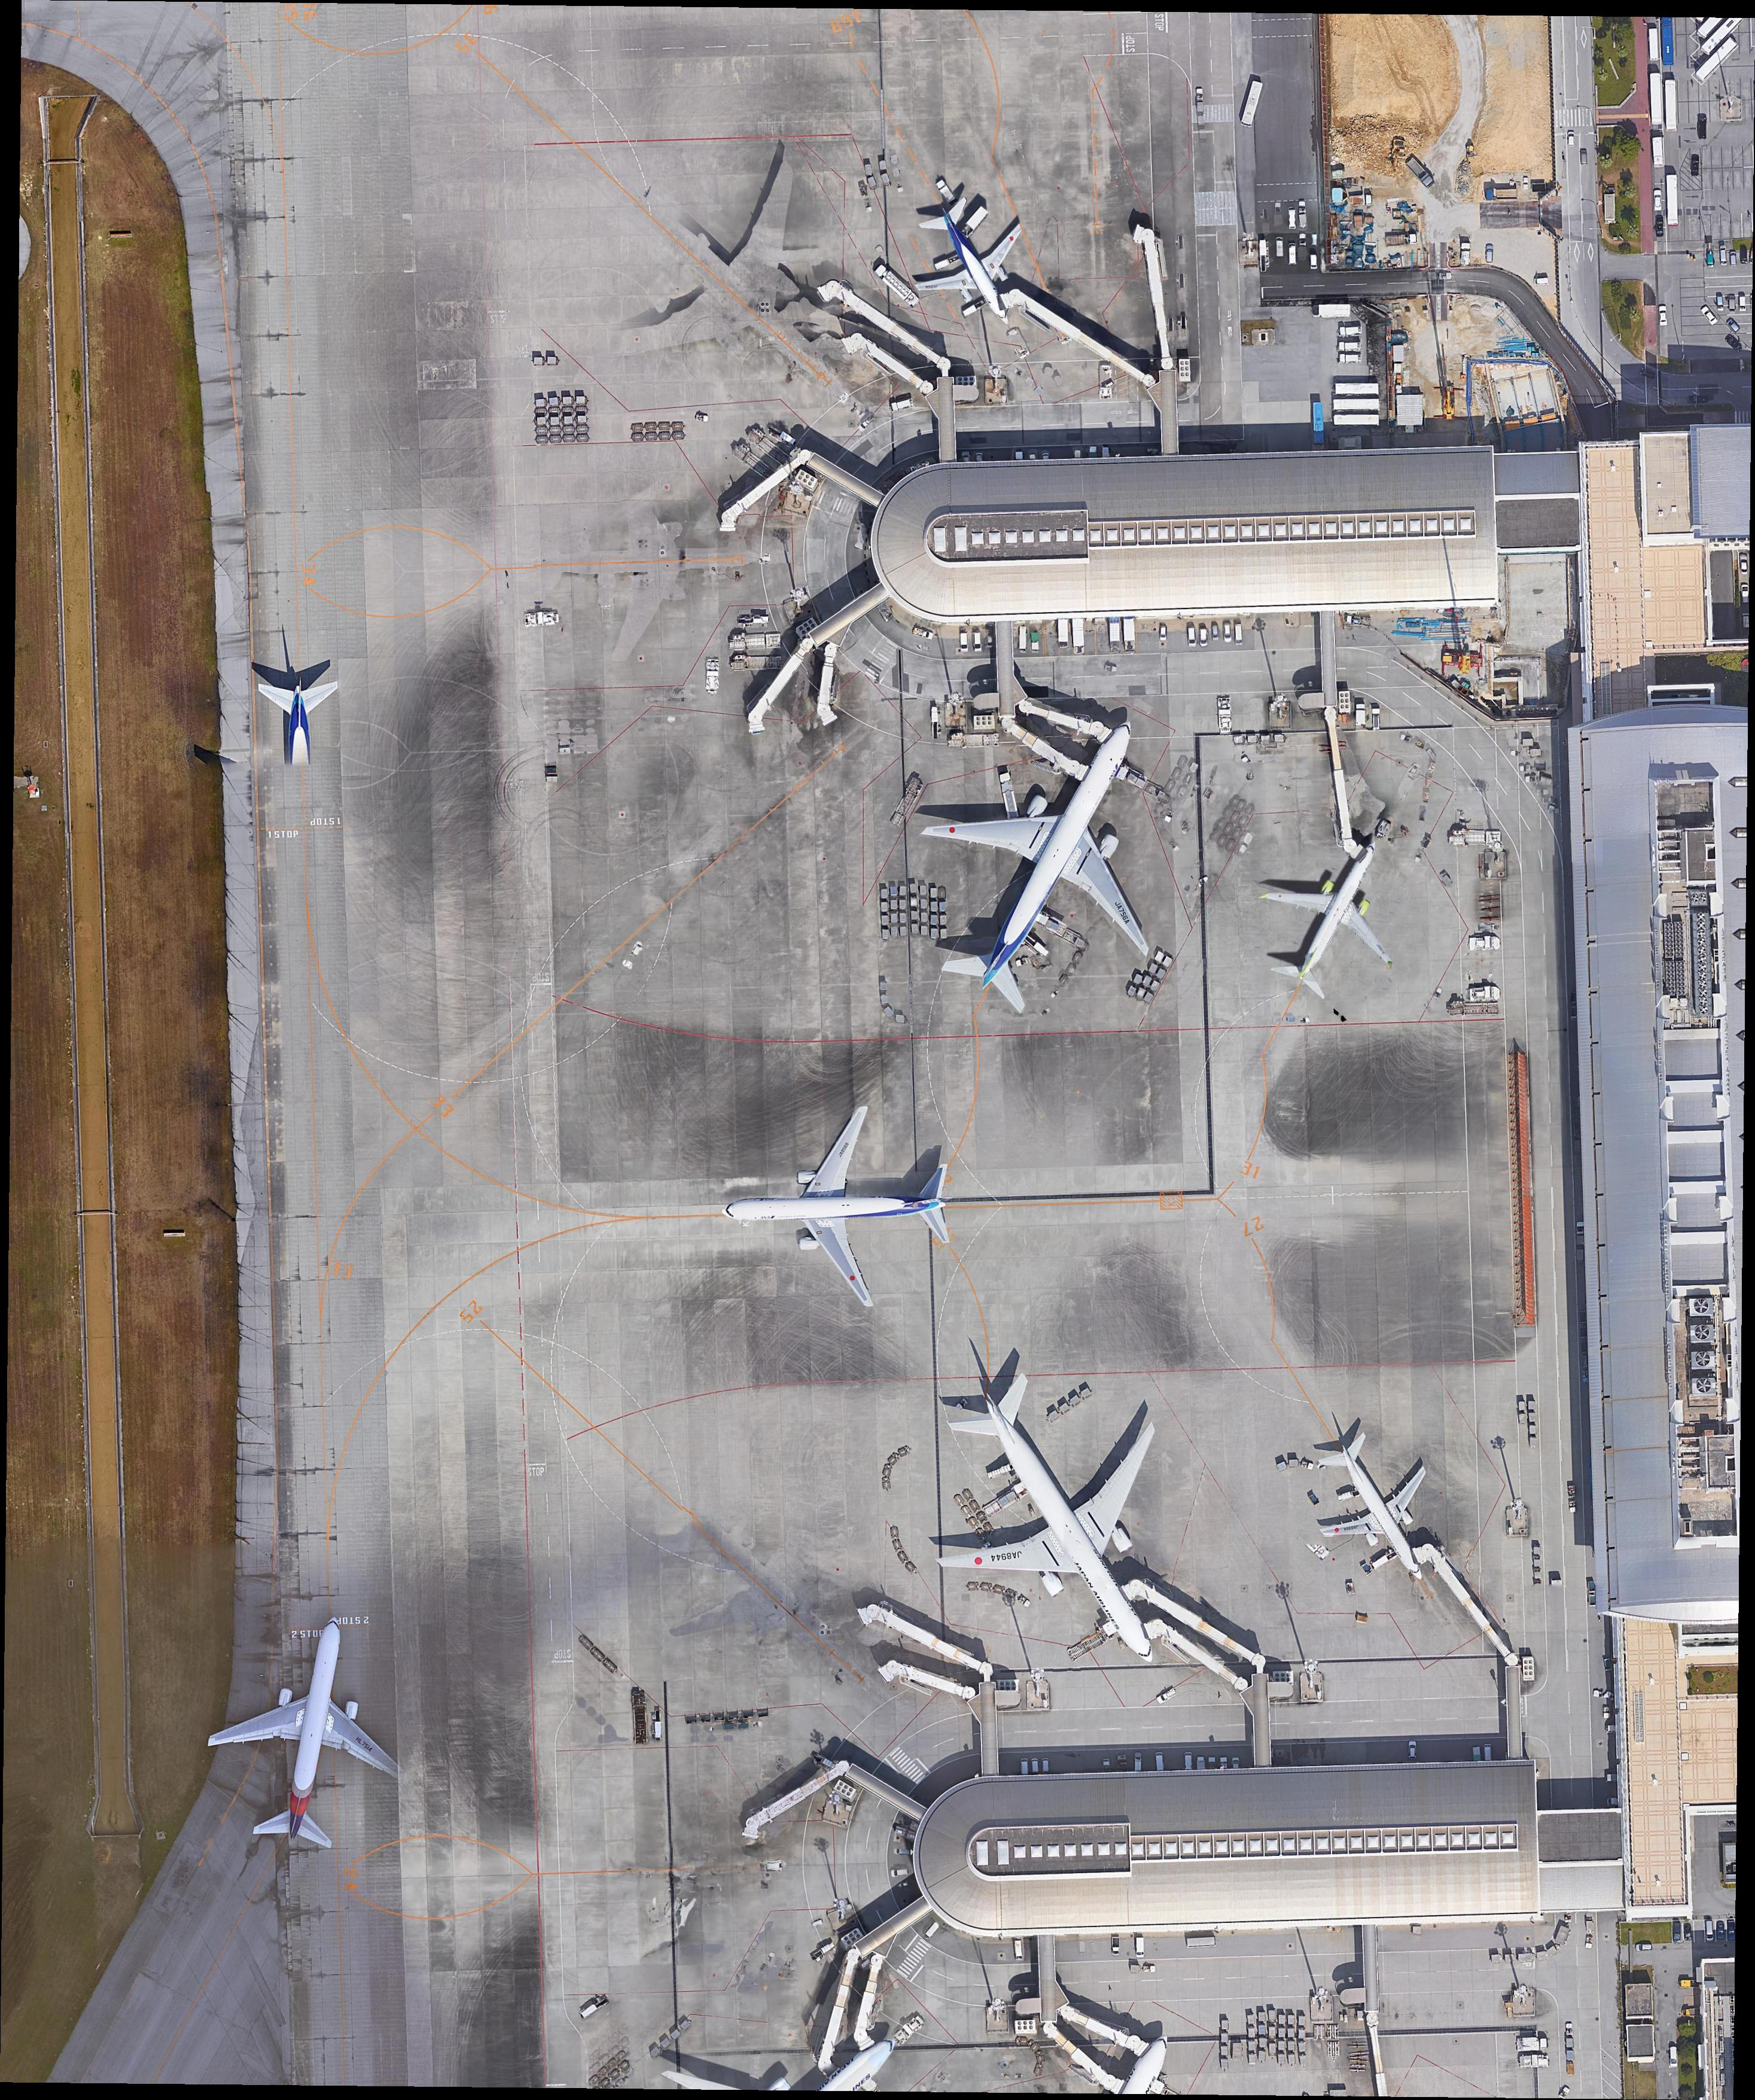plane: (824, 1279, 1253, 1731), (830, 677, 1258, 1088), (160, 1593, 428, 1889), (732, 1085, 969, 1329), (1198, 814, 1436, 1045), (1260, 1386, 1484, 1624), (879, 165, 1058, 349), (258, 673, 340, 818)
